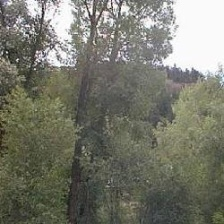neutral: (2, 2, 223, 219)
